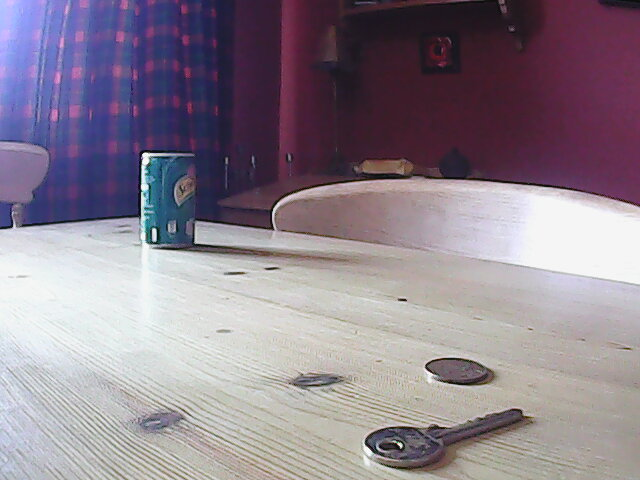Can: (135, 149, 199, 253)
Coin: (419, 358, 492, 387)
Key: (360, 405, 525, 469)
